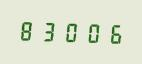eight: (18, 18, 38, 42)
six: (102, 21, 122, 45)
three: (39, 18, 59, 43)
zero: (60, 19, 80, 44), (81, 20, 101, 45)
